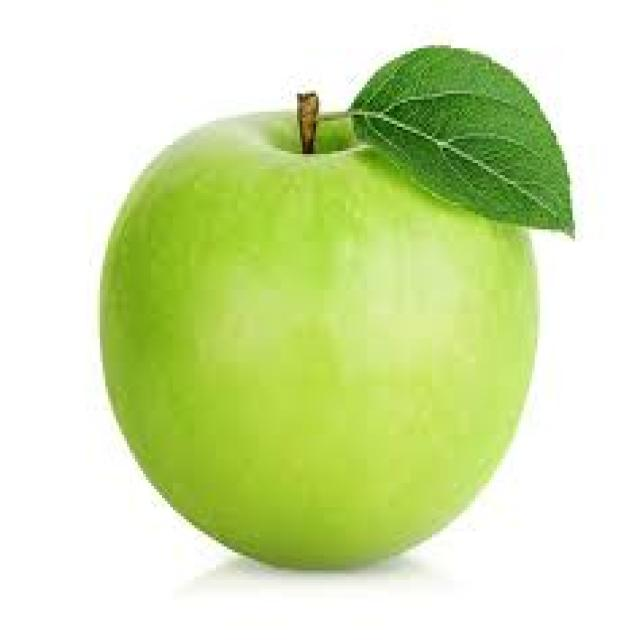non_orange: (103, 93, 562, 570)
